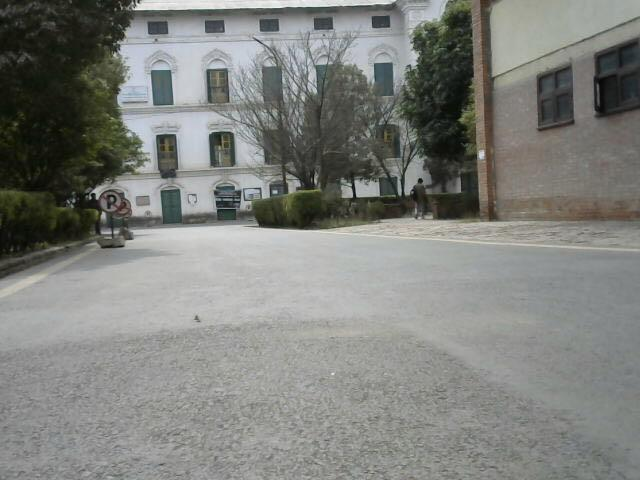Building: (129, 11, 391, 241), (465, 0, 640, 225)
Road: (0, 220, 640, 480)
Traffic sign: (98, 183, 124, 253), (119, 195, 136, 252)
Tree: (1, 3, 129, 245), (227, 39, 391, 181), (412, 4, 494, 221), (408, 174, 426, 219)
